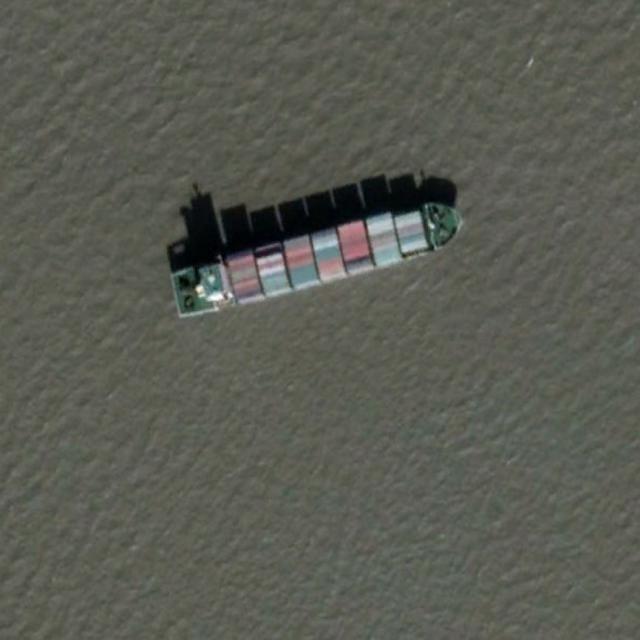ship: (165, 172, 465, 319)
